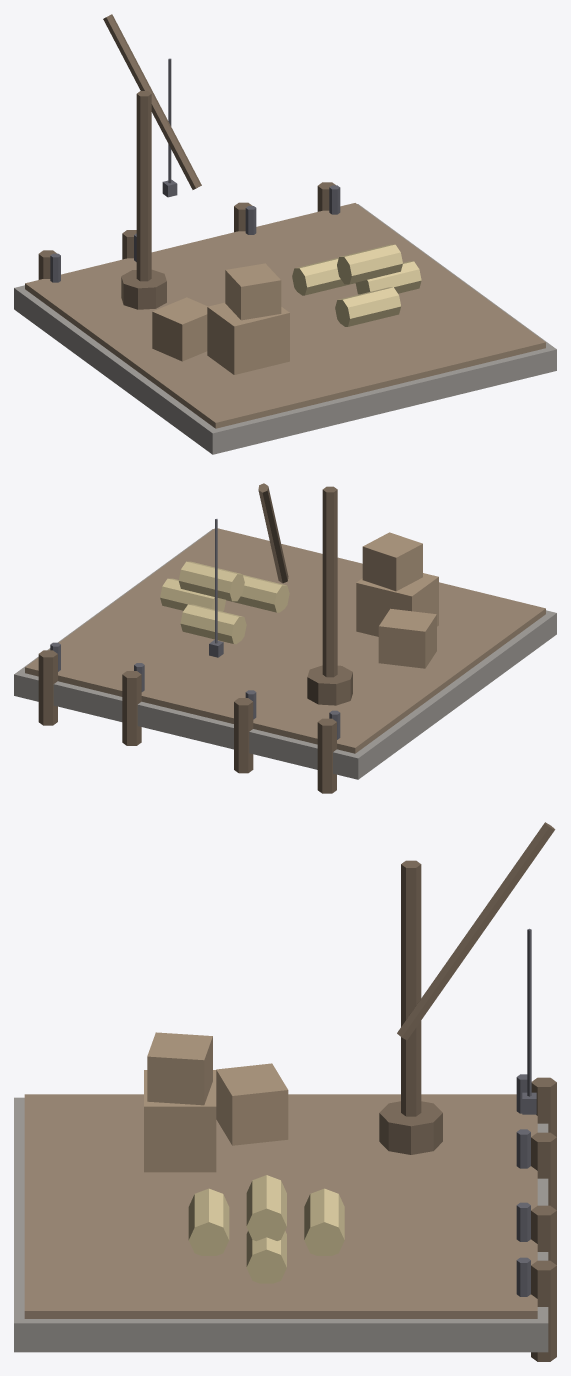
The model's file is infrastructure_pier.glb.
3 views of the same model, one above another, from view 1: azimuth 30°, elevation 25°; view 2: azimuth 150°, elevation 25°; view 3: azimuth 270°, elevation 25° (orthographic). The views are drawn at different scales.
Parts seen in each view (by area): view 1: Wharf_Timber_Deck, Wharf_Stone_Base, Crate_Large_1, Crane_Mast, Crate_Small_2, Crate_Small_3, Crane_Boom, Tawara_3, Tawara_0, Crane_Base, Tawara_1, Tawara_2; view 2: Wharf_Timber_Deck, Wharf_Stone_Base, Crate_Small_2, Crate_Large_1, Crane_Mast, Crate_Small_3, Tawara_3, Tawara_1, Crane_Base, Wharf_Pile_3, Wharf_Pile_0, Wharf_Pile_1 (+4 smaller); view 3: Wharf_Timber_Deck, Wharf_Stone_Base, Crate_Large_1, Crate_Small_2, Crane_Mast, Crate_Small_3, Crane_Boom, Crane_Base, Tawara_0, Tawara_1, Tawara_3, Tawara_2 (+5 smaller).
Part boxes in pixels (x1,y1,x2,y2): Wharf_Timber_Deck: [25, 203, 545, 428]; Wharf_Stone_Base: [14, 204, 556, 454]; Crate_Large_1: [207, 302, 289, 374]; Crane_Mast: [136, 91, 151, 281]; Crate_Small_2: [152, 297, 207, 361]; Crate_Small_3: [225, 263, 281, 320]; Crane_Boom: [103, 14, 201, 189]; Tawara_3: [337, 244, 402, 284]; Tawara_0: [335, 287, 401, 326]; Crane_Base: [121, 269, 166, 309]; Tawara_1: [292, 257, 355, 295]; Tawara_2: [355, 261, 421, 294]; Wharf_Timber_Deck: [25, 528, 545, 753]; Wharf_Stone_Base: [14, 529, 556, 779]; Crate_Small_2: [378, 608, 436, 668]; Crate_Large_1: [356, 573, 438, 636]; Crane_Mast: [322, 486, 337, 677]; Crate_Small_3: [362, 532, 422, 591]; Tawara_3: [178, 561, 244, 601]; Tawara_1: [180, 604, 246, 644]; Crane_Base: [307, 665, 352, 705]; Wharf_Pile_3: [38, 650, 57, 725]; Wharf_Pile_0: [317, 718, 336, 793]; Wharf_Pile_1: [234, 698, 253, 773]; Wharf_Timber_Deck: [24, 1094, 537, 1318]; Wharf_Stone_Base: [14, 1097, 548, 1352]; Crate_Large_1: [144, 1070, 216, 1172]; Crate_Small_2: [216, 1063, 288, 1145]; Crane_Mast: [401, 860, 421, 1116]; Crate_Small_3: [147, 1032, 212, 1105]; Crane_Boom: [397, 822, 555, 1040]; Crane_Base: [379, 1101, 442, 1154]; Tawara_0: [188, 1188, 229, 1255]; Tawara_1: [304, 1188, 344, 1255]; Tawara_3: [246, 1175, 286, 1241]; Tawara_2: [246, 1231, 286, 1283].
Bounding box in the file's own units: 3.7 × 3 × 3.76.
